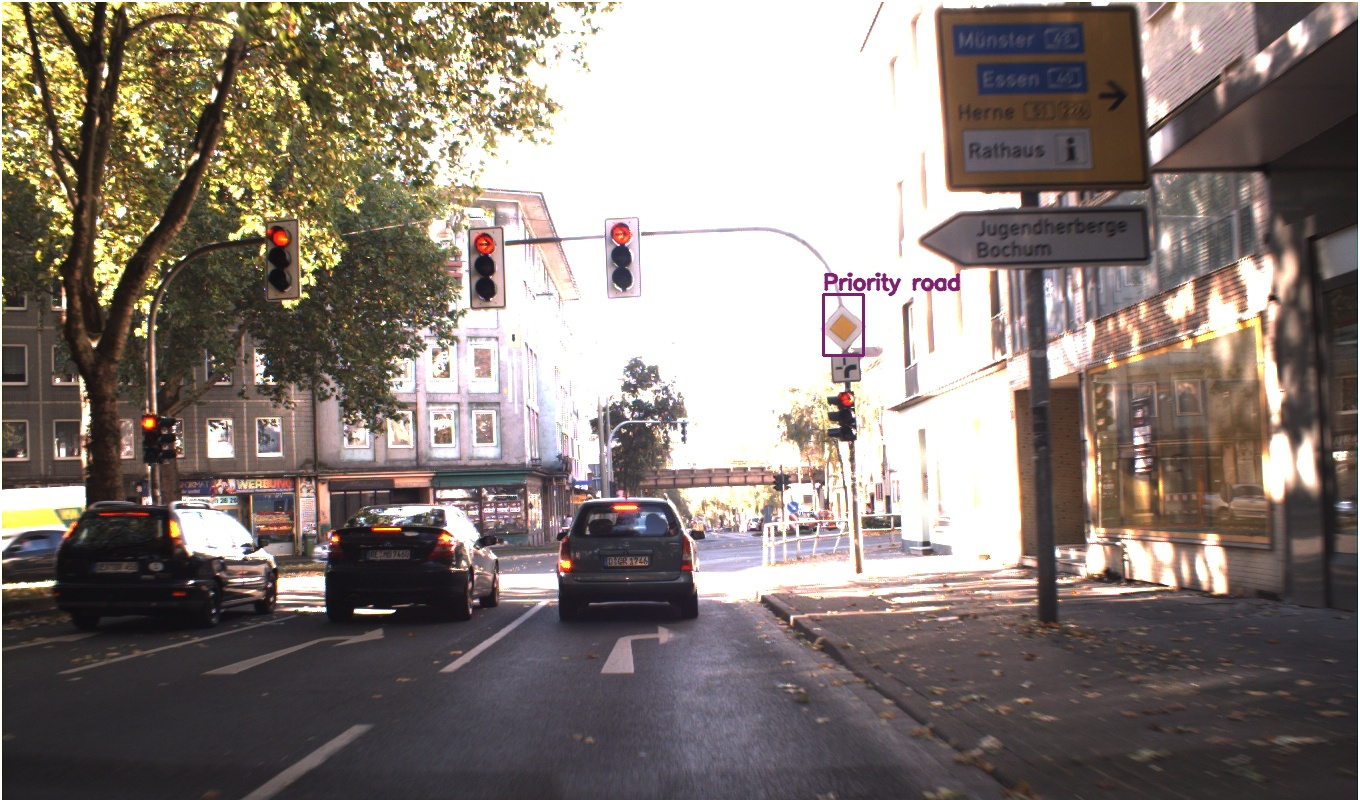Go straight or left: (993, 397, 1025, 430)
Priority road: (985, 354, 1028, 397)
